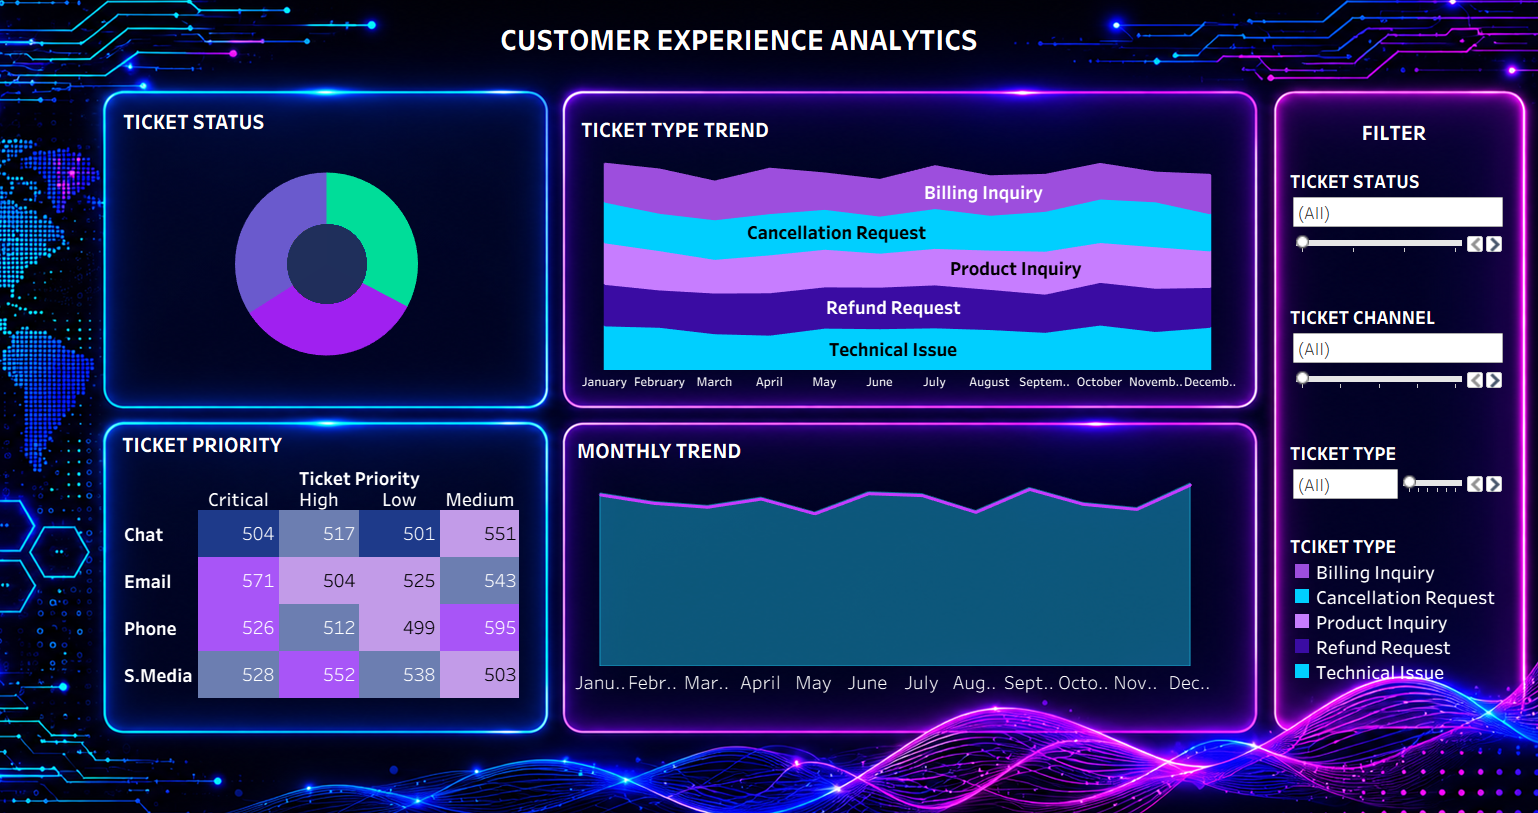

What the dashboard file says about the page in this screenshot:
{"tool":"tableau","page":{"name":"Customer Experience Dashboard","canvas":[1000,1000],"units":"permille","ordinal":0},"visuals":[{"type":"image","param":"C:/Users/Hassan - Work/Desktop/customer and operational 1630x866.png","box":[5,9.2,990,981.5]},{"type":"text","box":[240.7,26.6,498.8,82]},{"type":"worksheet","title":"Ticket Status Distribution","mark":"Pie","cols":["Calculation_1281760009879552","Calculation_1281760009879552"],"box":[100.4,137.4,264.3,332.6]},{"type":"worksheet","title":"Ticket Type Trends Over Time","mark":"Area","rows":["Ticket ID"],"cols":["Date of Purchase"],"box":[386.5,146.7,418.3,332.6]},{"type":"text","box":[829.8,150.1,139.9,49.6]},{"type":"filter","title":"Ticket Type Trends Over Time","param":"[federated.0f0wlw01rlkplj13ylz9h1a8ayd3].[none:Ticket Status:nk]","box":[832.3,212.5,139.9,157.1]},{"type":"filter","title":"Ticket Type Trends Over Time","param":"[federated.0f0wlw01rlkplj13ylz9h1a8ayd3].[none:Ticket Channel:nk]","box":[832.3,369.5,139.9,157.1]},{"type":"worksheet","title":"Ticket Priority by Channel","mark":"Square","rows":["Ticket Channel"],"cols":["Ticket Priority"],"box":[99.1,510.4,256.2,323.3]},{"type":"worksheet","title":"Monthly CSAT Trend","mark":"Area","rows":["Has_CSAT","Has_CSAT"],"cols":["Date of Purchase"],"box":[384,517.3,407.7,312.9]},{"type":"filter","title":"Ticket Type Trends Over Time","param":"[federated.0f0wlw01rlkplj13ylz9h1a8ayd3].[none:Ticket Type:nk]","box":[832.3,526.6,139.9,107.4]},{"type":"legend","title":"Ticket Type Trends Over Time","param":"[federated.0f0wlw01rlkplj13ylz9h1a8ayd3].[none:Ticket Type:nk]","box":[832.3,634,139.9,183.6]}]}

Visuals, with their boxes on the dashboard's canvas, which has no fixed pixel size, in thousandths of its width and height (x1, y1, x2, y2). These are canvas units, not pixel positions in the 1538x813 screenshot, which may show the page scaled, cropped or inside an application window:
image: crop(5, 9, 995, 991)
text: crop(241, 27, 740, 109)
"Ticket Status Distribution" worksheet (Pie marks): crop(100, 137, 365, 470)
"Ticket Type Trends Over Time" worksheet (Area marks): crop(386, 147, 805, 479)
text: crop(830, 150, 970, 200)
"Ticket Type Trends Over Time" filter: crop(832, 212, 972, 370)
"Ticket Type Trends Over Time" filter: crop(832, 370, 972, 527)
"Ticket Priority by Channel" worksheet (Square marks): crop(99, 510, 355, 834)
"Monthly CSAT Trend" worksheet (Area marks): crop(384, 517, 792, 830)
"Ticket Type Trends Over Time" filter: crop(832, 527, 972, 634)
"Ticket Type Trends Over Time" legend: crop(832, 634, 972, 818)
